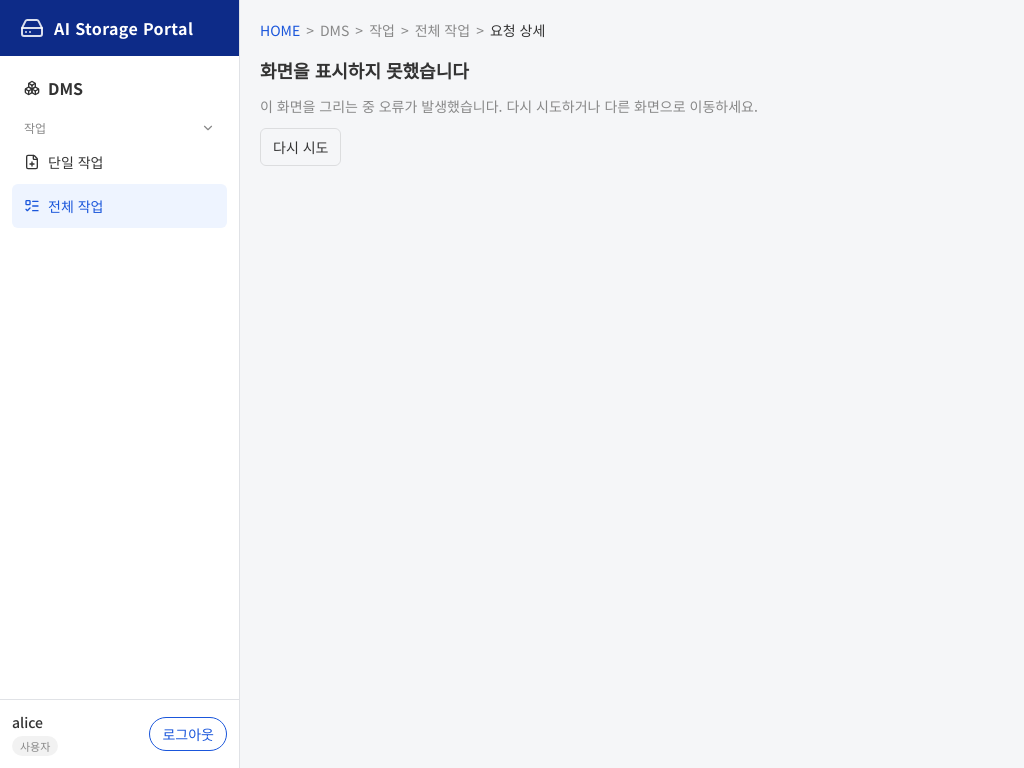
Scenario: 다른 경로로 이동하면 안쪽 경계가 스스로 풀린다
Expected: the heading "화면을 표시하지 못했습니다" is shown, [260, 57, 469, 83]
Click the link "전체 작업". click: (120, 206)
box: [12, 184, 227, 228]
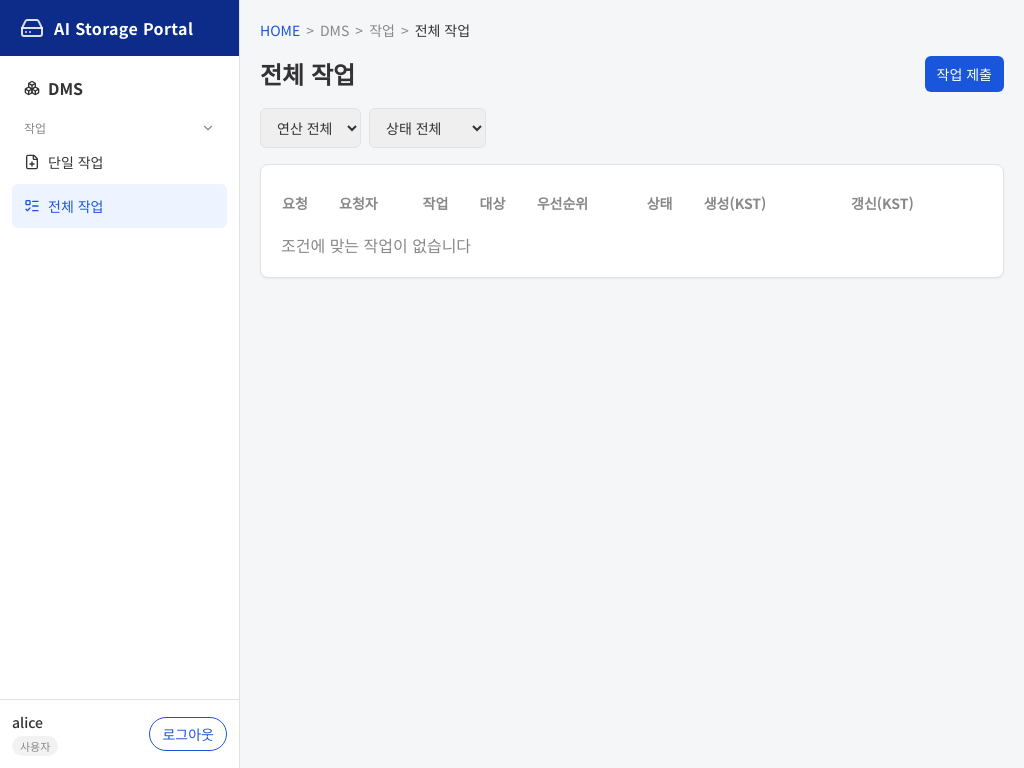
Expected: the heading "전체 작업" is shown, [260, 58, 355, 90]
Expected: the heading "화면을 표시하지 못했습니다" is gone
